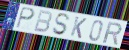0: (88, 19, 104, 41)
B: (33, 9, 53, 34)
K: (69, 16, 88, 40)
P: (15, 6, 35, 30)
R: (102, 20, 123, 46)
S: (51, 13, 71, 36)
